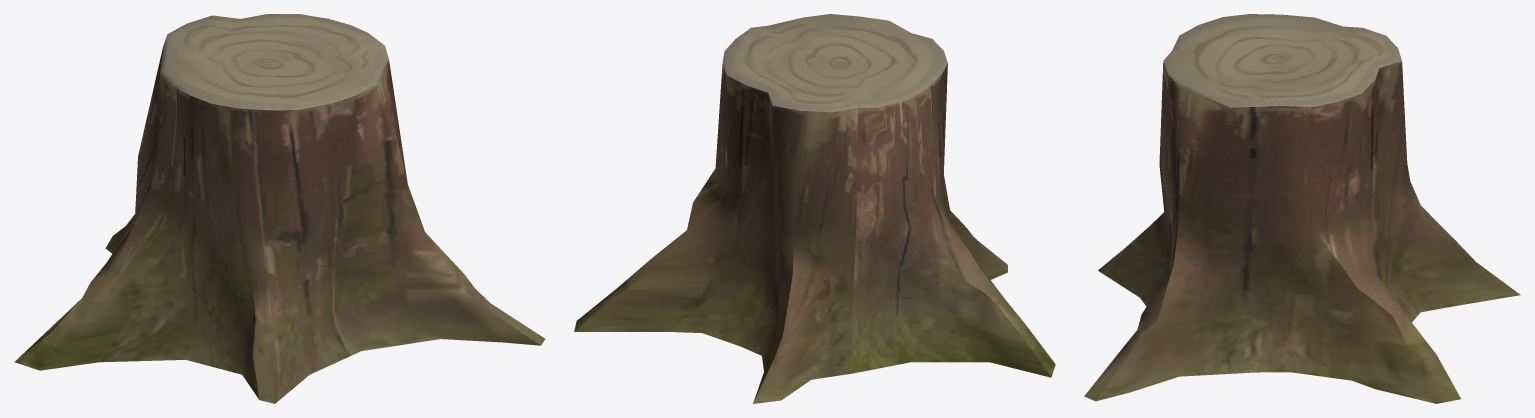
3 views of the same model, side by side, from view 1: azimuth 30°, elevation 25°; view 2: azimuth 150°, elevation 25°; view 3: azimuth 270°, elevation 25° (orthographic). The views are drawn at different scales.
Parts seen in each view (by area): view 1: body0_model0_lod0_mesh0; view 2: body0_model0_lod0_mesh0; view 3: body0_model0_lod0_mesh0.
Boxes of the visible parts, box(x1,y1,x2,y2) form: body0_model0_lod0_mesh0: box(14, 14, 545, 403); body0_model0_lod0_mesh0: box(574, 14, 1055, 403); body0_model0_lod0_mesh0: box(1084, 14, 1520, 403).
Size of the model in its own units: 84.31 by 48.74 by 75.
Materials: 1 (1 with a texture image).
